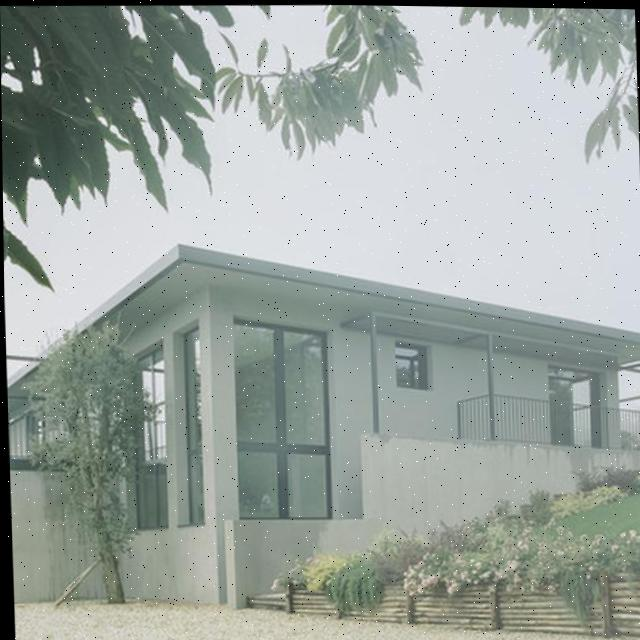building: (3, 232, 640, 612)
